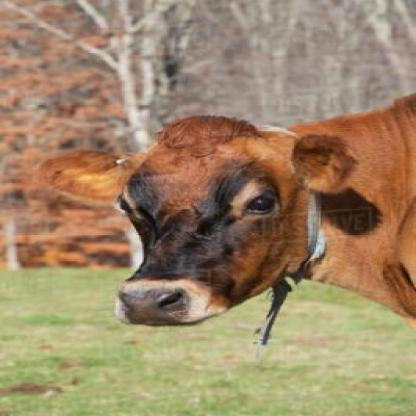lower: (145, 322, 187, 327)
mouth: (118, 278, 218, 330)
upper: (136, 300, 162, 311)
